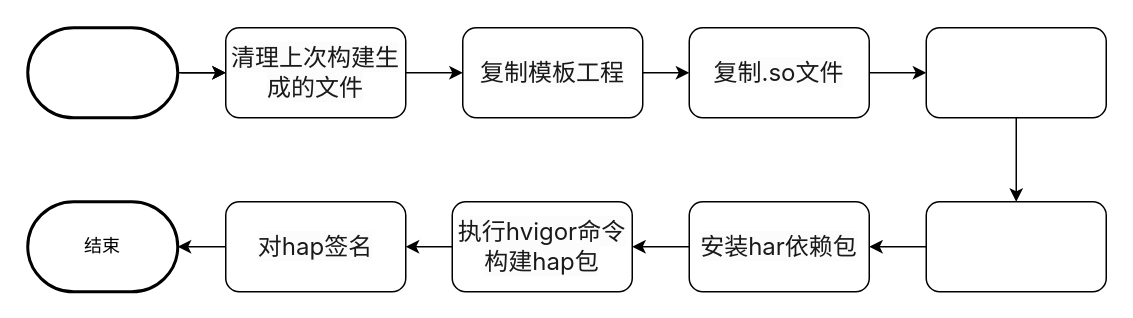
This 1133x318 diagram has some shape labels left out. The box of each missing label's shape, as (x1, y1, x2, y2) in pixels:
复制资源文件到rawfile目录: (925, 26, 1106, 118)
开始: (26, 26, 178, 118)
插入UPL节点的代码至ets文件中: (925, 200, 1106, 292)
